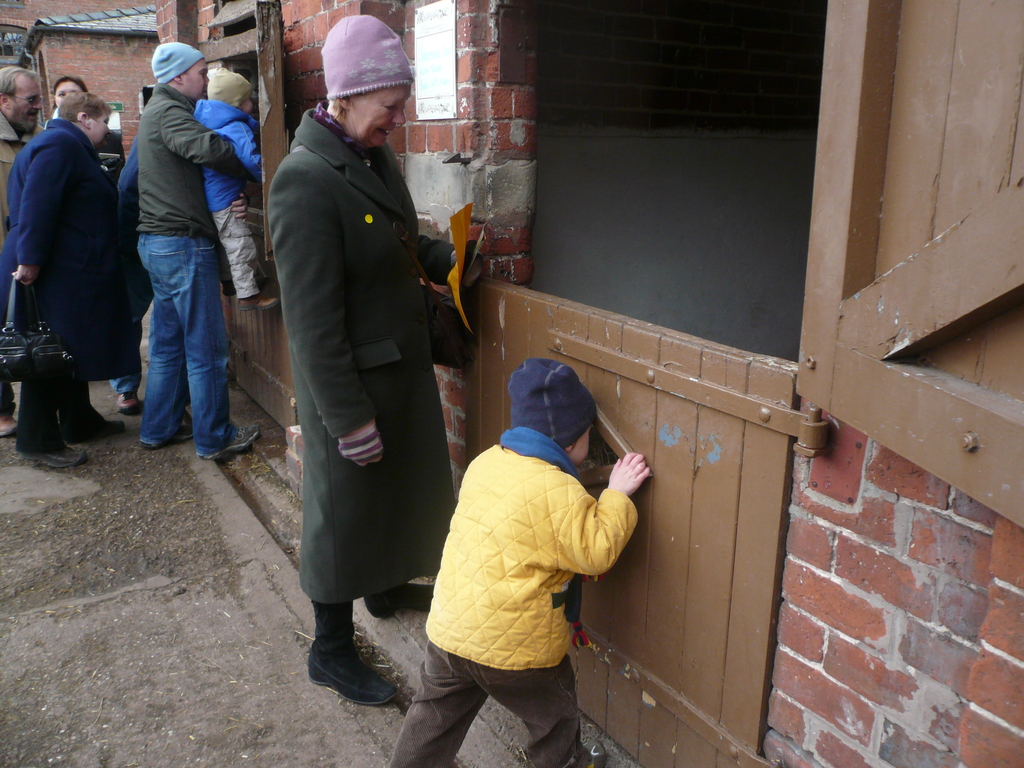Person: (262, 12, 488, 706), (0, 40, 285, 468)
